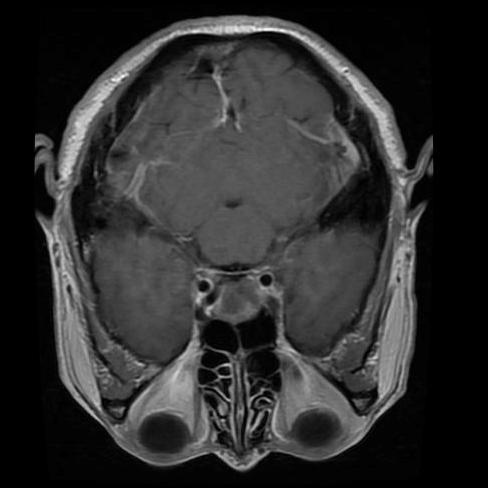Tumour-Pituitary: (191, 262, 285, 325)
